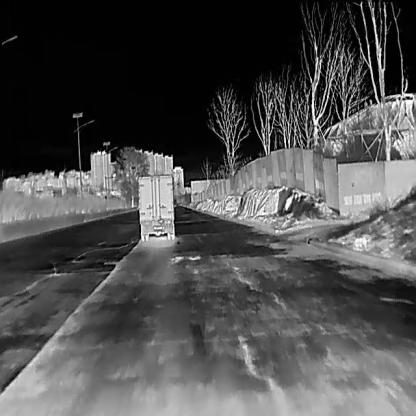truck: (137, 173, 174, 240)
